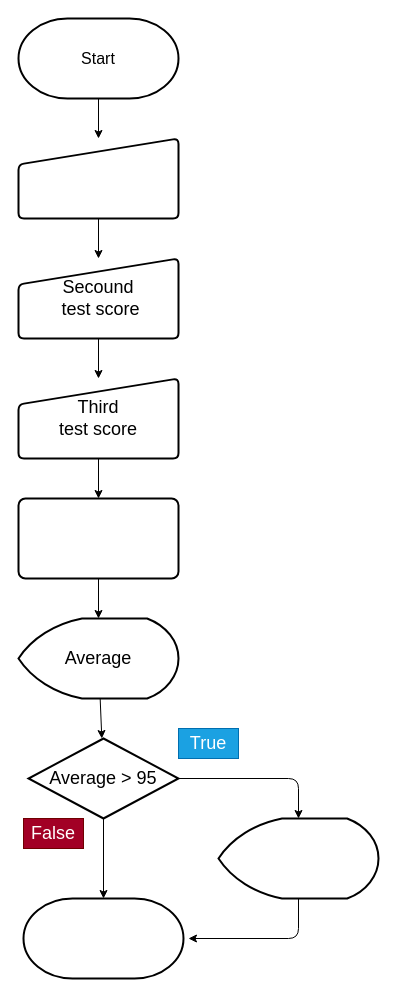
Image size: 396x996. Some labels were removed from this diagram. The shapes that lost their labels are listed below. From the top down, each one's centre as x and y in pixels, then its label:
At point 98,178: "First test score".
At point 98,538: "Average = ( first + secound + third ) / 3".
At point 298,858: "Congreatulation".
At point 103,938: "End".
